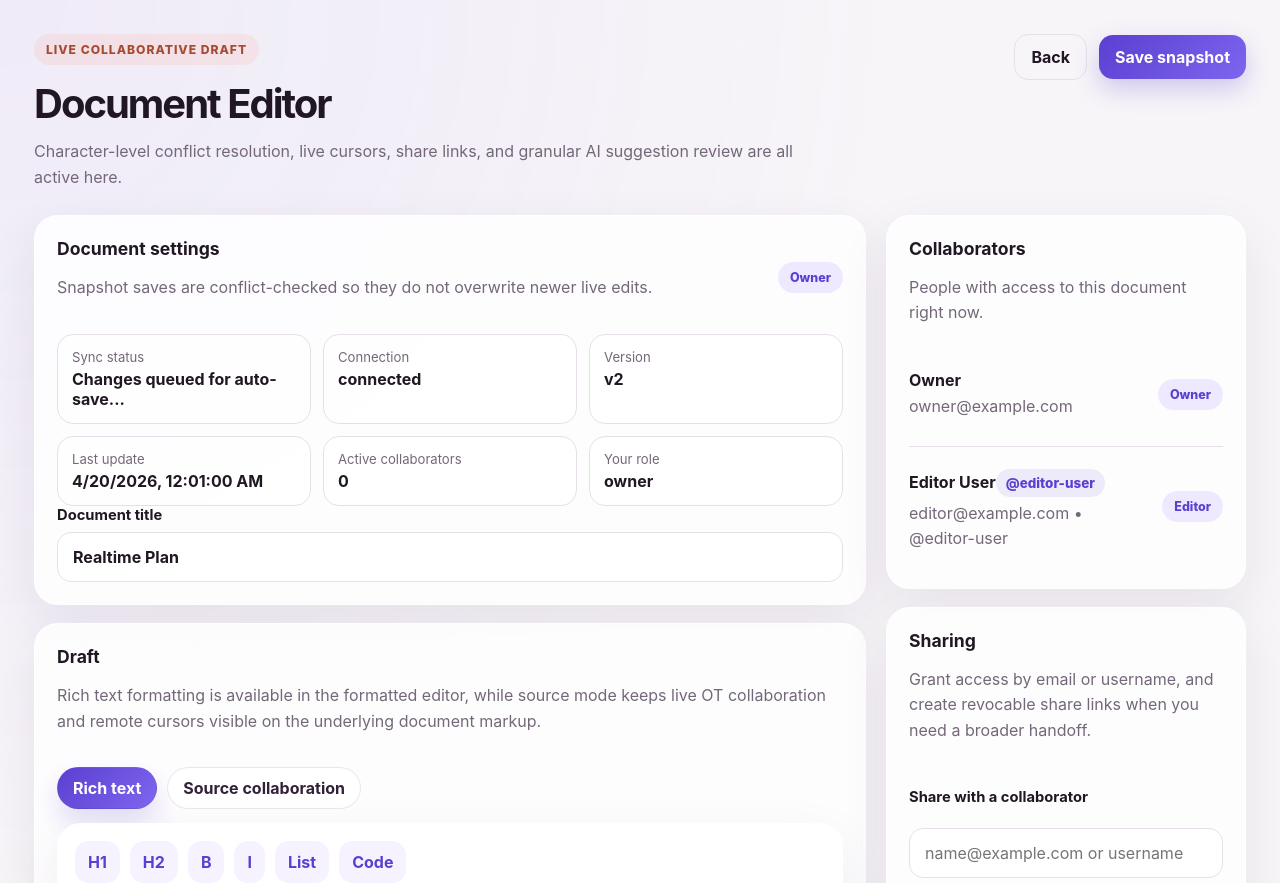
Test: grants document access to a collaborator from the sharing panel
This screenshot has width=1280, height=883.
Expected: the text "Share with a collaborator" is shown, [909, 788, 1088, 806]
Type "editor@example.com" into the field with placeholder "name@example.com or username". click: (1066, 852)
box: [909, 828, 1223, 878]
(page scrolled)
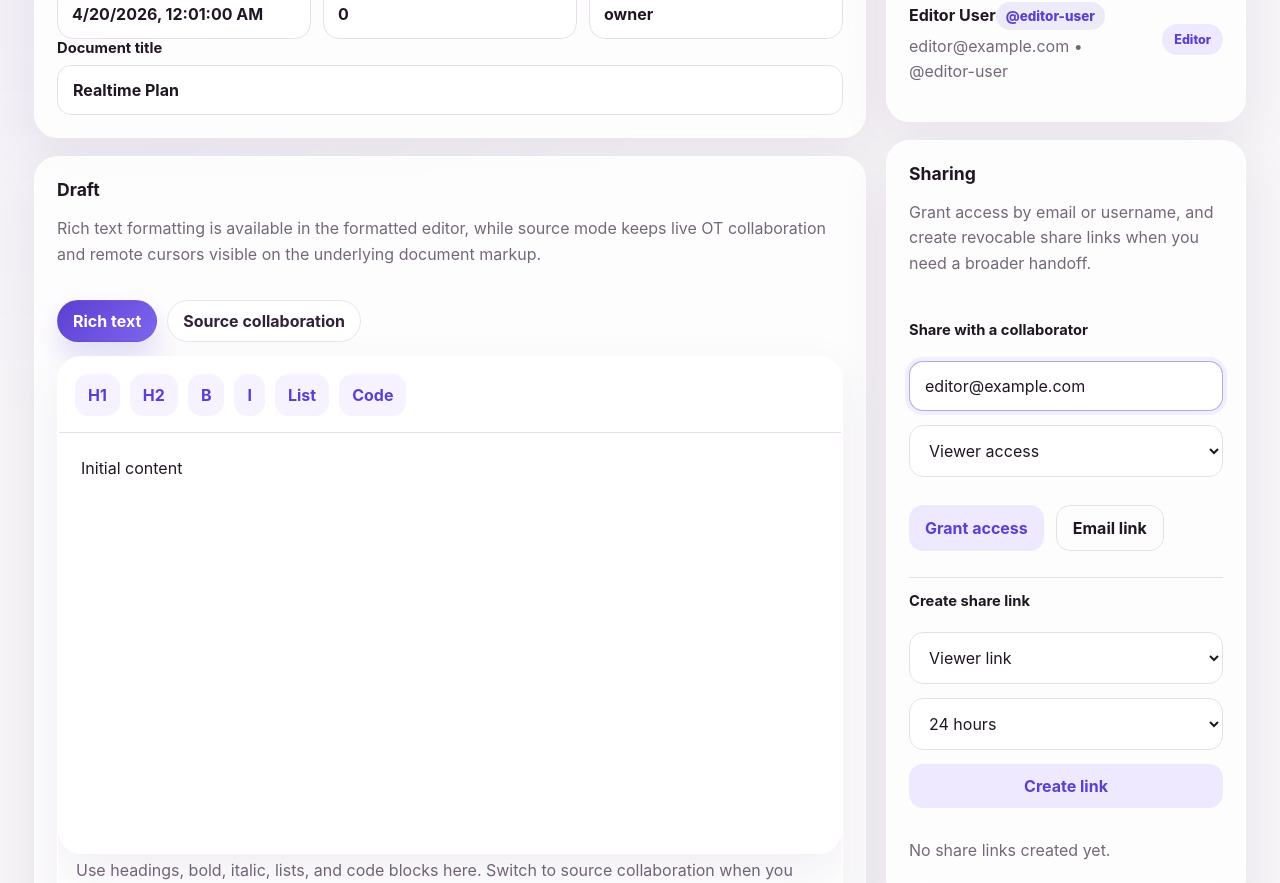
Select "Editor access" in the dropdown showing "Viewer access" below "Share with a collaborator". click: (1066, 450)
box: [909, 424, 1223, 476]
(page scrolled)
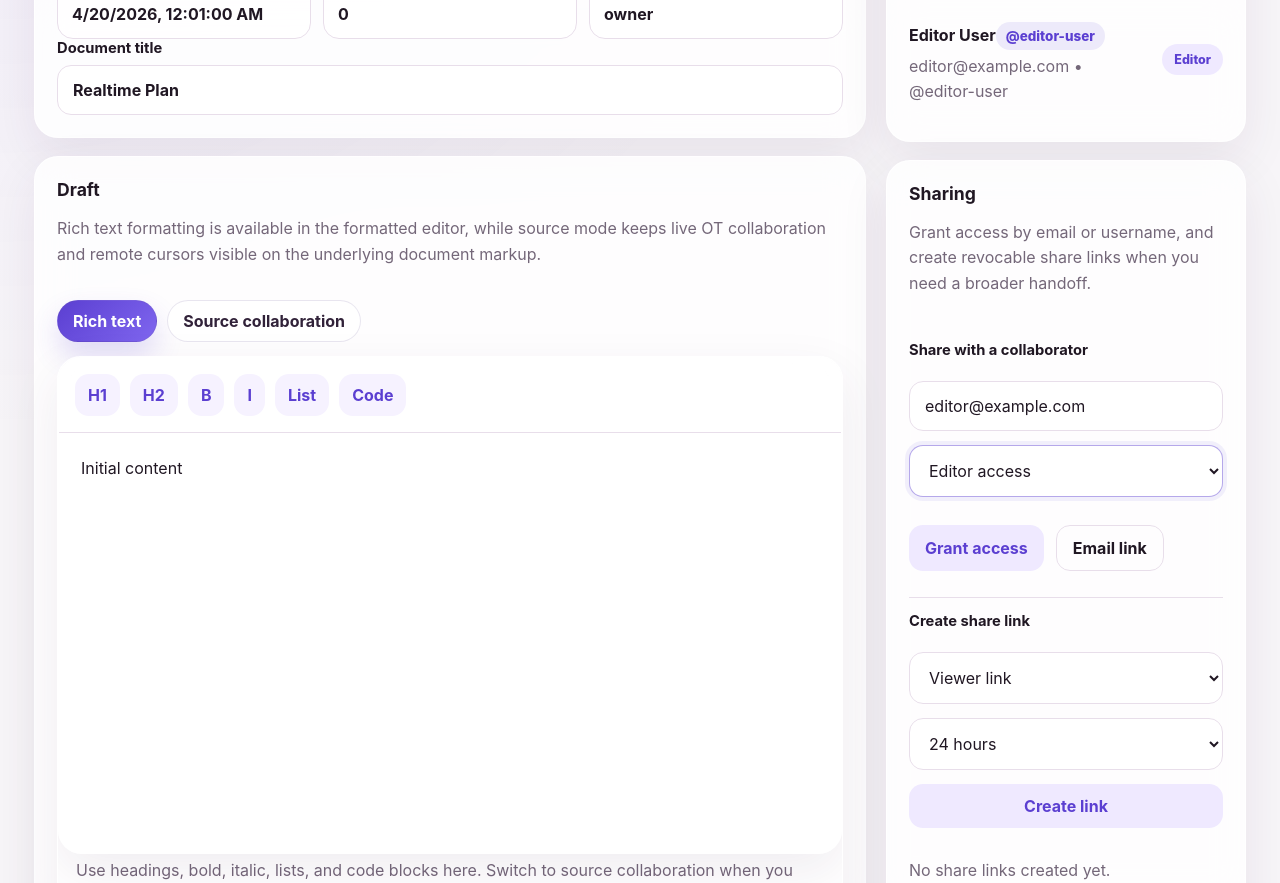
Click the button "Grant access". click: (976, 548)
box: [909, 524, 1044, 570]
(page scrolled)
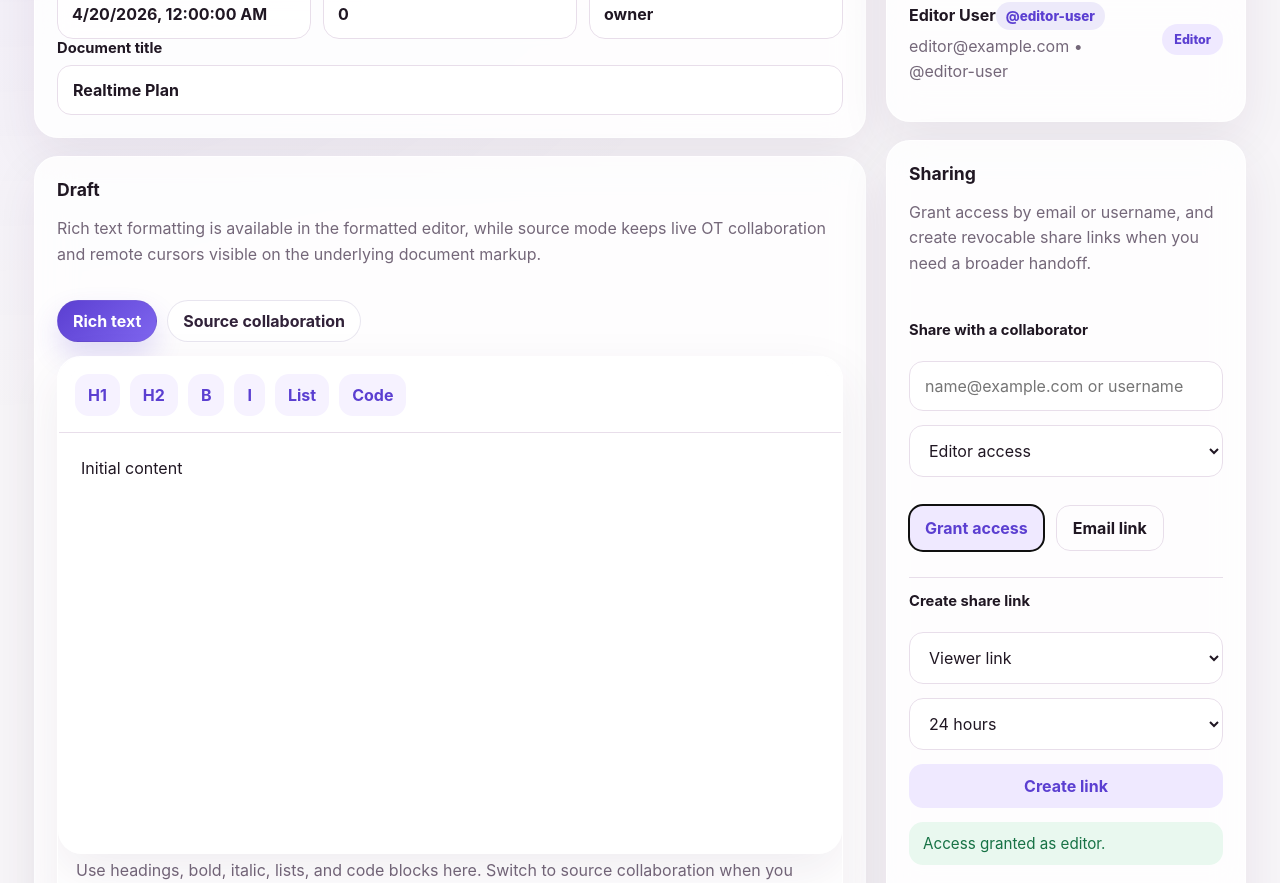
Expected: the text "Editor User" is shown, [909, 5, 996, 25]
Expected: the text "Access granted as editor." is shown, [909, 822, 1223, 864]
